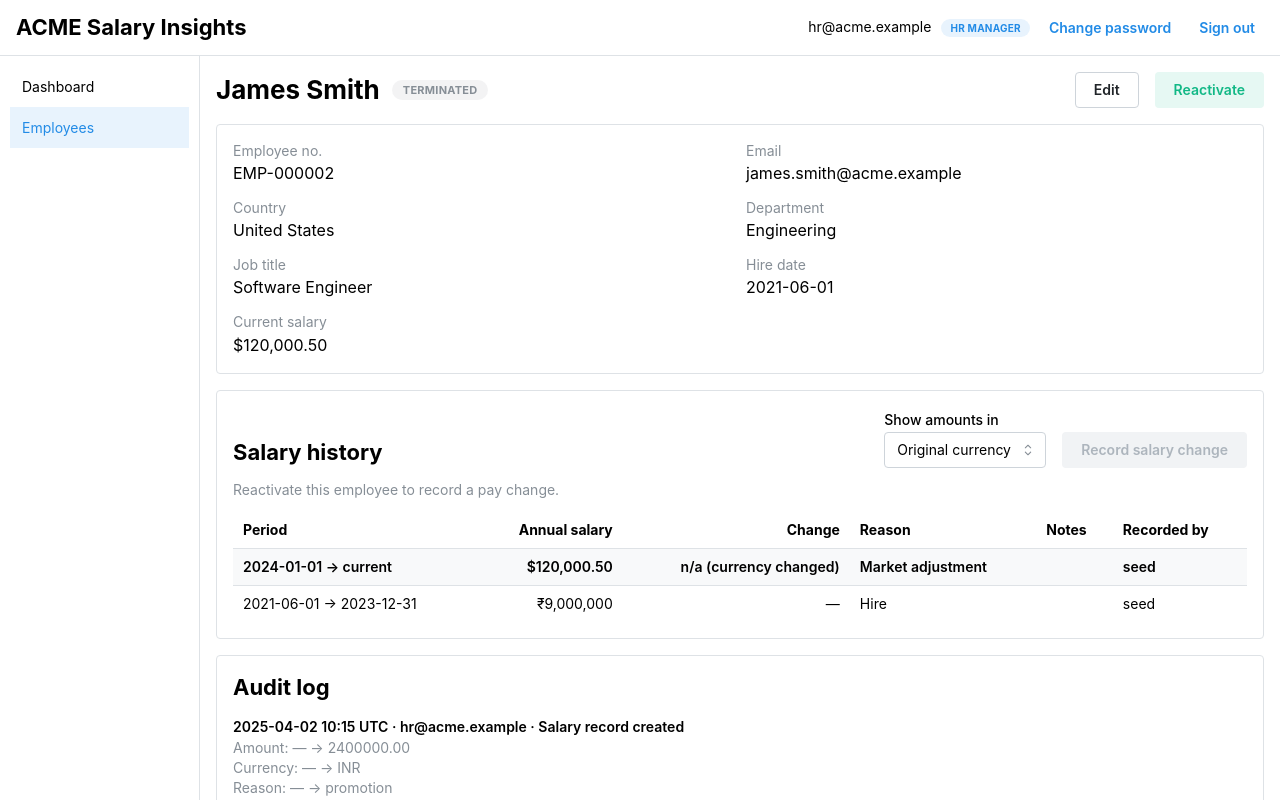
Test case: Employee pages › employee page › reactivates a terminated employee after confirmation
Step 1. Click the button "Reactivate" → x=1209, y=90, box [1155, 72, 1264, 108]
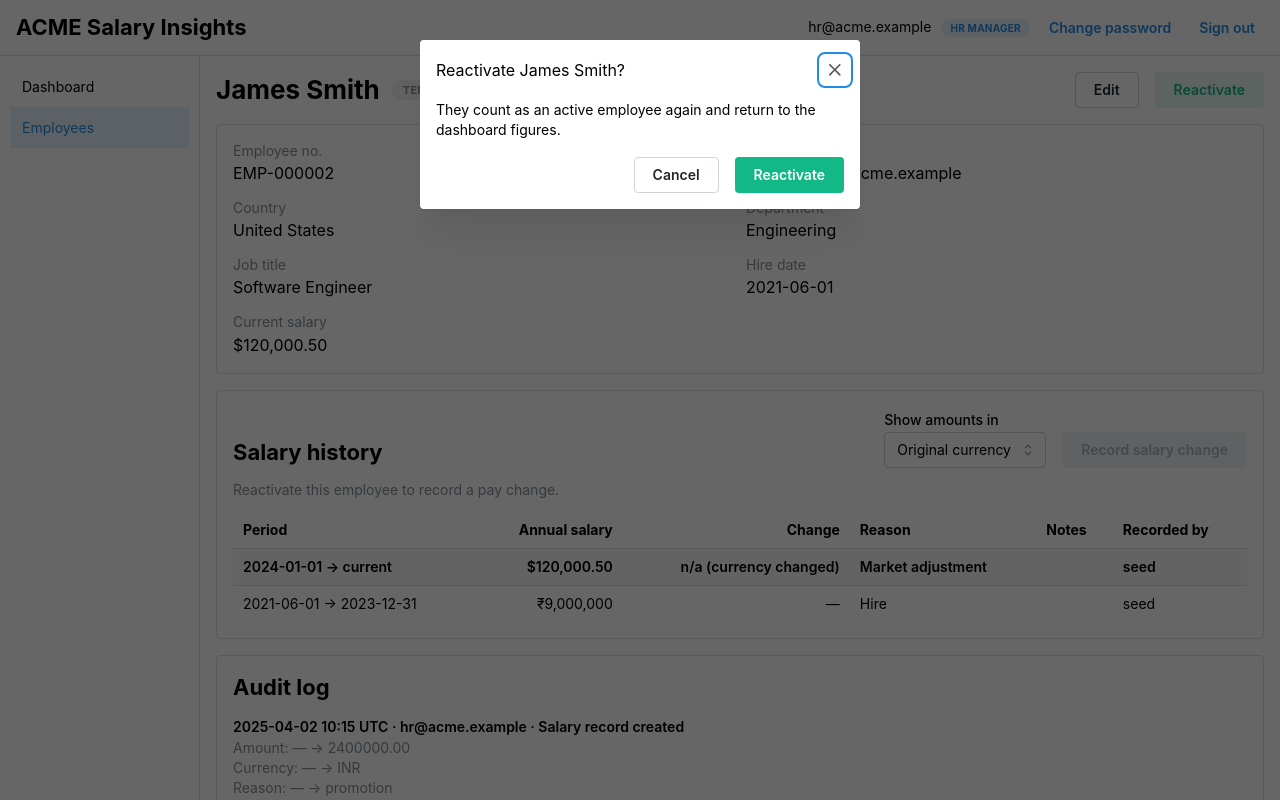
Step 2. Click the button "Reactivate" → x=789, y=175, box [735, 157, 844, 193]
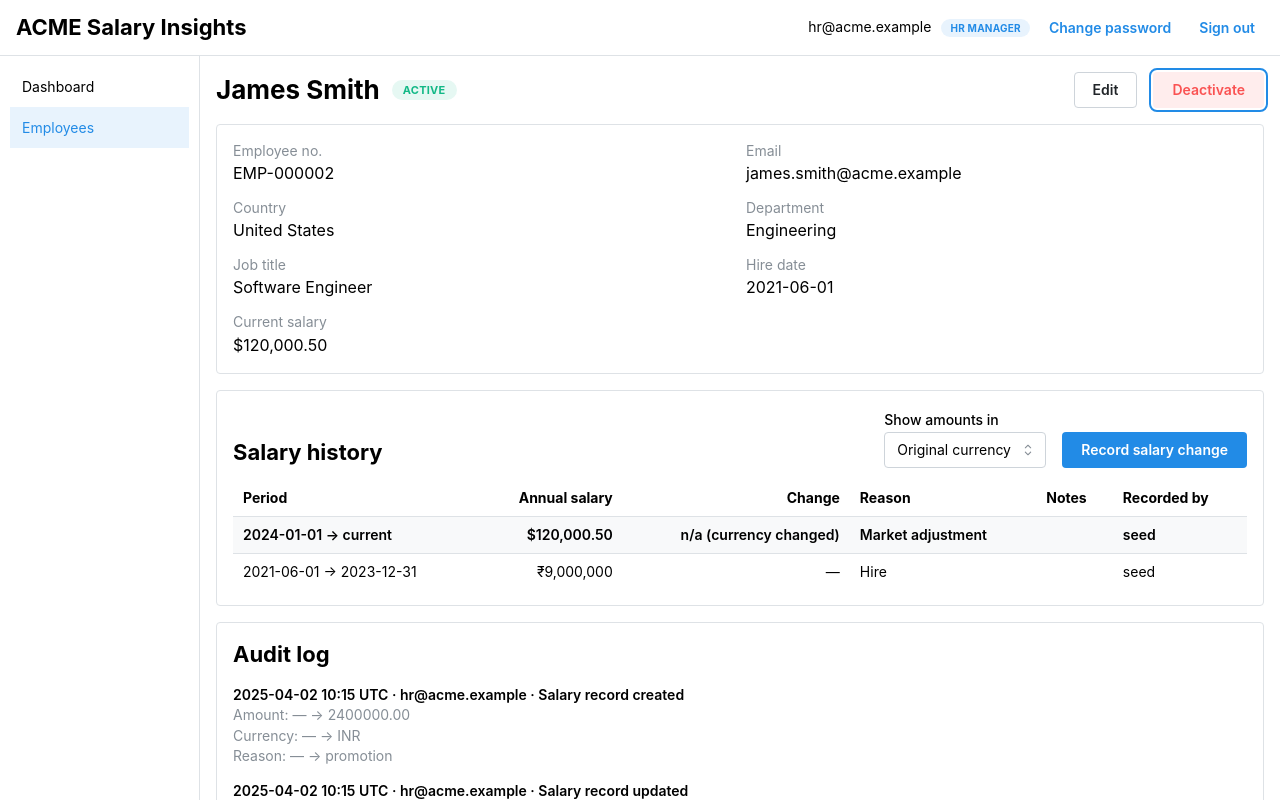
Expected: the text "active" is shown, [403, 81, 446, 99]
